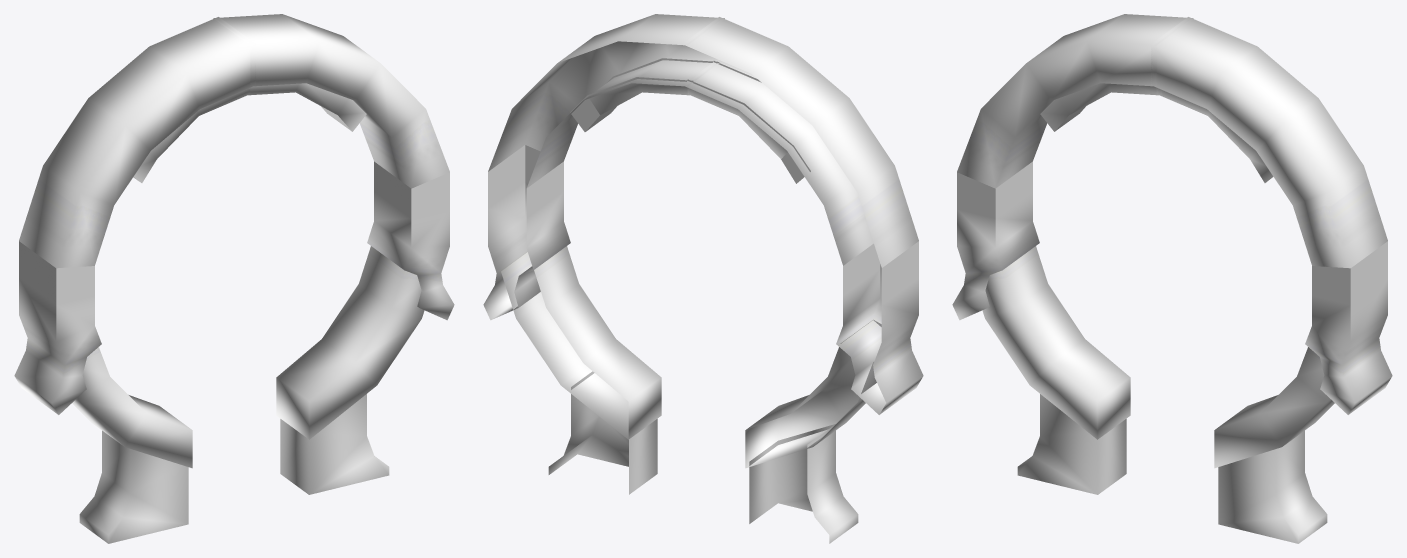
The model's file is effect_zhucheng_zhaohuan_tiaodai.fbx.
3 renders of one model, left to right at view 1: azimuth 30°, elevation 25°; view 2: azimuth 150°, elevation 25°; view 3: azimuth 330°, elevation 25°, orthographic.
Visible parts, largest first — view 1: effect_zhucheng_zhaohuan_men (1), effect_zhucheng_zhaohuan_men; view 2: effect_zhucheng_zhaohuan_men (1), effect_zhucheng_zhaohuan_men; view 3: effect_zhucheng_zhaohuan_men, effect_zhucheng_zhaohuan_men (1).
Part boxes in pixels (box(x1,y1,x2,y2)): effect_zhucheng_zhaohuan_men (1): box(14, 17, 255, 543); effect_zhucheng_zhaohuan_men: box(213, 14, 454, 494); effect_zhucheng_zhaohuan_men (1): box(682, 17, 923, 543); effect_zhucheng_zhaohuan_men: box(483, 14, 724, 494); effect_zhucheng_zhaohuan_men: box(1151, 17, 1392, 543); effect_zhucheng_zhaohuan_men (1): box(952, 14, 1193, 494).
Size of the model in its own units: 9.23 by 10.25 by 1.48.
